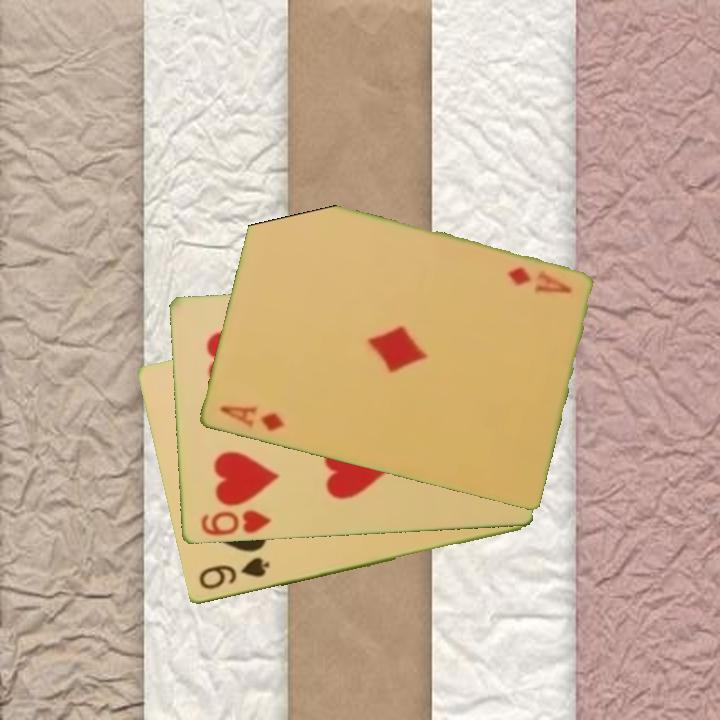6h: (197, 506, 274, 540)
9s: (195, 554, 273, 593)
Ad: (215, 402, 288, 435), (504, 263, 574, 297)
